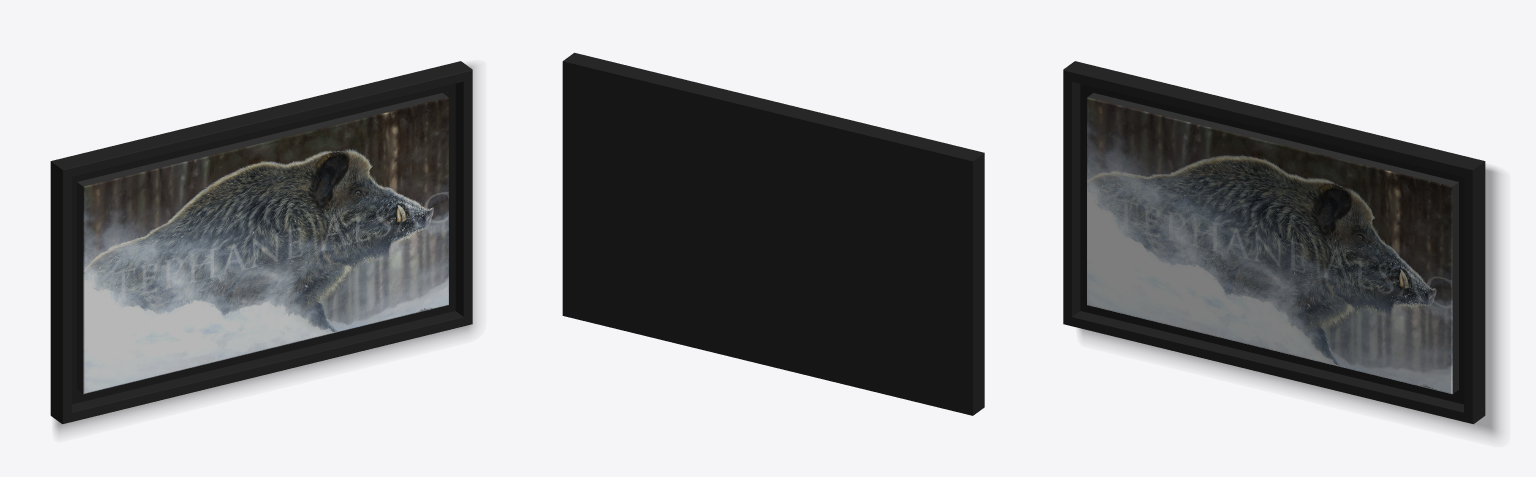
File: bad-lieutenant-classique-4c229b89.glb
The picture shows the model from 3 angles, left to right: view 1: azimuth 30°, elevation 25°; view 2: azimuth 150°, elevation 25°; view 3: azimuth 330°, elevation 25°; orthographic projection.
Visible parts, largest first — view 1: Painting; view 2: Painting; view 3: Painting.
Part boxes in pixels (x1,y1,x2,y2): Painting: (50, 61, 475, 433); Painting: (562, 52, 984, 415); Painting: (1063, 61, 1499, 437).
Size of the model in its own units: 0.926 by 0.606 by 0.04.
5 materials, 3 textured.
